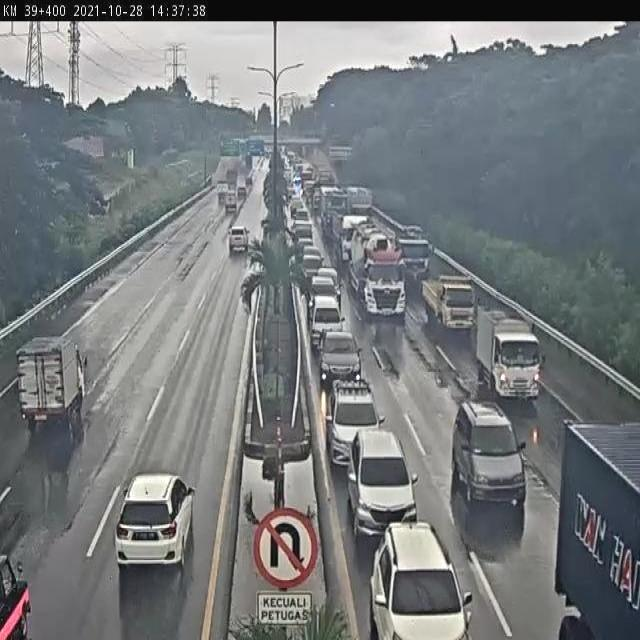Car: (369, 519, 472, 639), (346, 429, 419, 548), (450, 403, 528, 508), (113, 470, 197, 567), (324, 384, 385, 471), (320, 331, 363, 390), (309, 298, 344, 346), (308, 276, 341, 312), (228, 224, 249, 253), (308, 269, 338, 281)
Truck: (553, 423, 640, 640), (12, 332, 88, 434), (476, 301, 546, 400), (352, 224, 407, 318), (421, 276, 478, 338), (0, 545, 31, 640), (392, 219, 432, 280), (332, 216, 368, 264), (216, 179, 231, 200), (225, 188, 237, 210), (238, 188, 248, 198)
